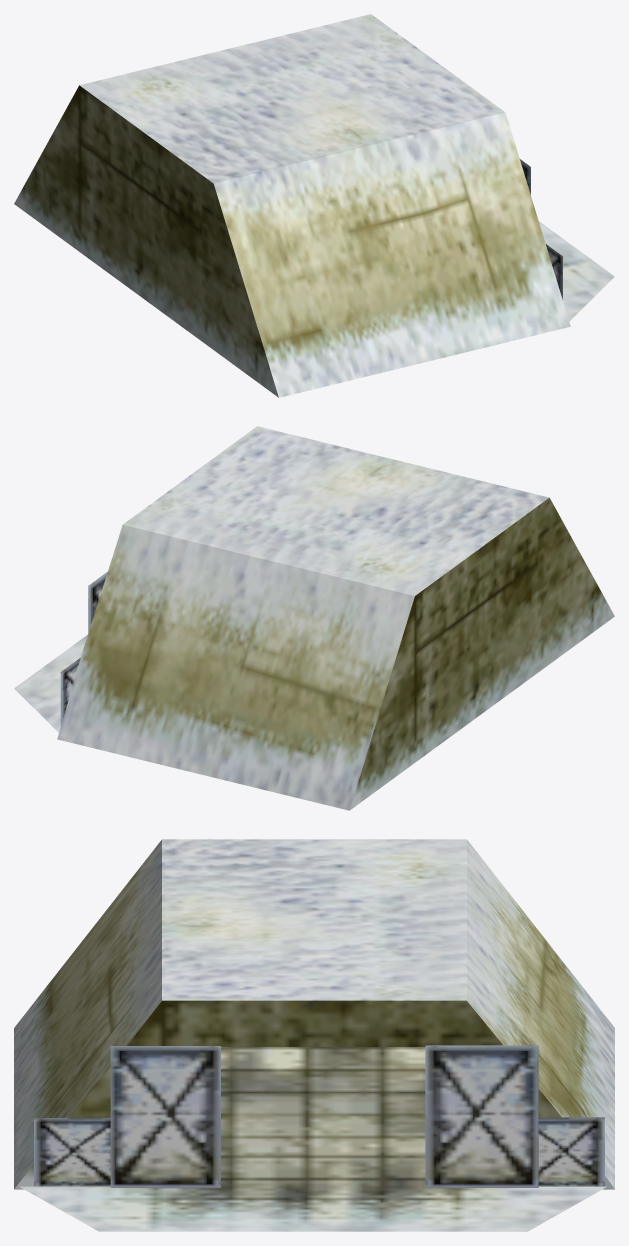
Rendered from Civilian - Civilian Building - Stan Hanger 02 - Snow and Night - CBTHanger2_sn.glb.
3 renders of one model, top to bottom at view 1: azimuth 30°, elevation 25°; view 2: azimuth 150°, elevation 25°; view 3: azimuth 270°, elevation 25°, orthographic. The views are drawn at different scales.
Visible parts, largest first — view 1: CBTHANGER2_SN; view 2: CBTHANGER2_SN; view 3: CBTHANGER2_SN.
Boxes of the visible parts, x1=… form: CBTHANGER2_SN: x1=14, y1=14, x2=614, y2=397; CBTHANGER2_SN: x1=14, y1=426, x2=614, y2=810; CBTHANGER2_SN: x1=14, y1=839, x2=614, y2=1231.
Bounding box in the file's own units: 57.65 × 24.56 × 70.85.
1 material, 1 textured.
